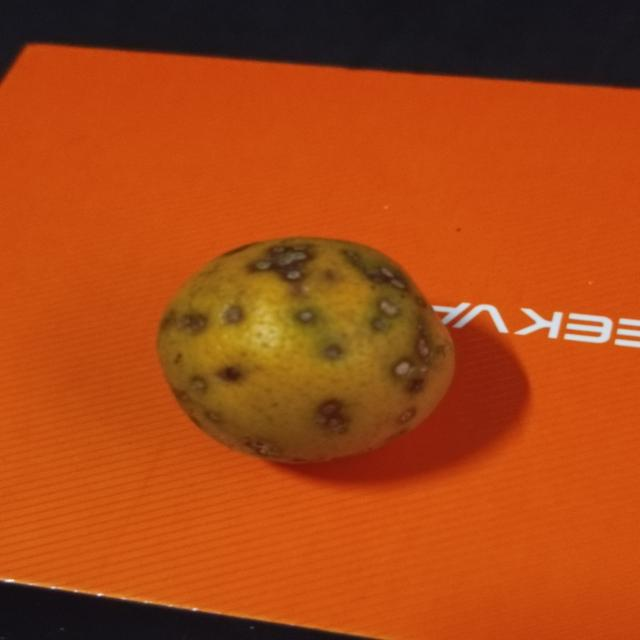black spot: (144, 229, 458, 465)
